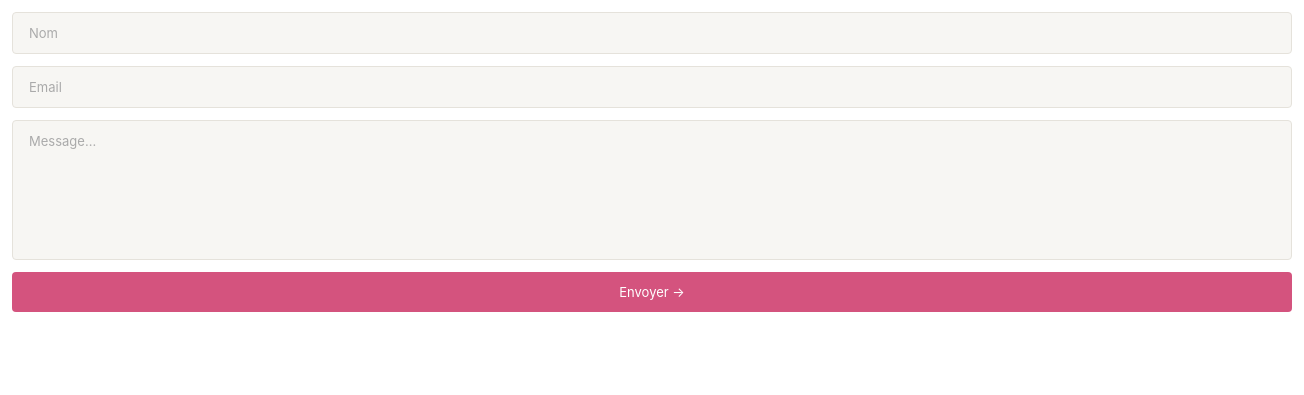
Test: ContactForm › field validation › shows all three errors when submitting an empty form
The width and height of the screenshot is (1304, 395).
Click the button "Envoyer →".
click(652, 292)  # box [12,272,1292,312]
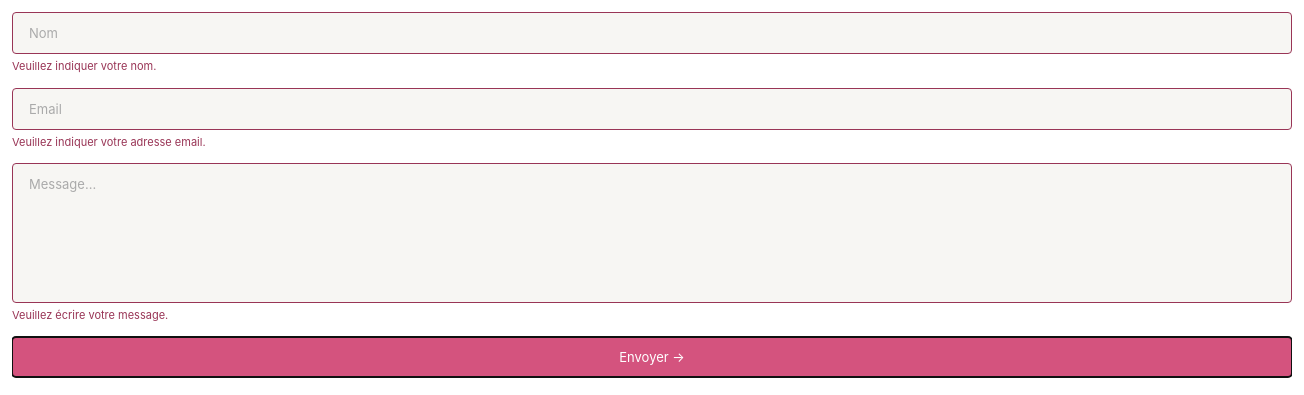
Expected: the text "Veuillez indiquer votre nom." is shown, [12,59,156,73]
Expected: the text "Veuillez indiquer votre adresse email." is shown, [12,135,206,149]
Expected: the text "Veuillez écrire votre message." is shown, [12,308,168,322]
